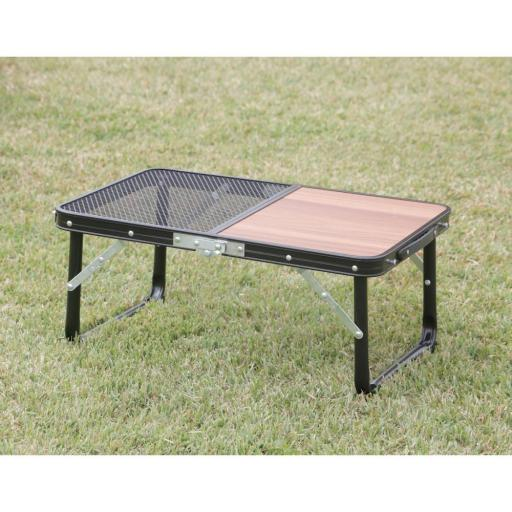table: (51, 162, 452, 399)
